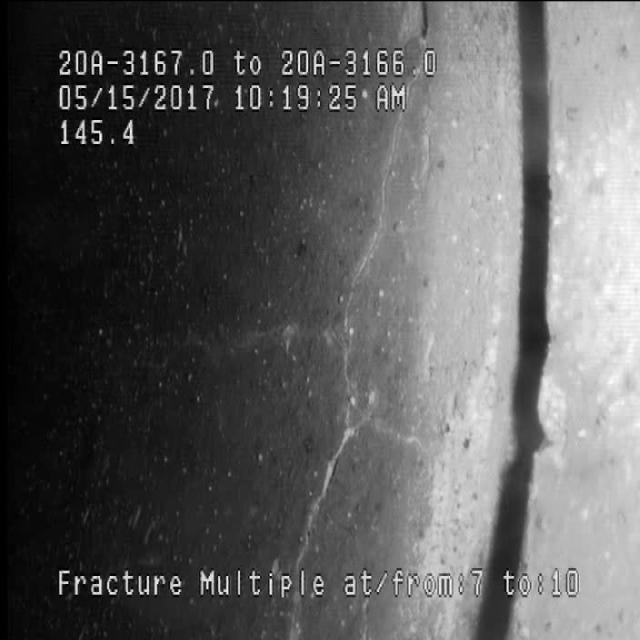Crack: (312, 158, 408, 512)
